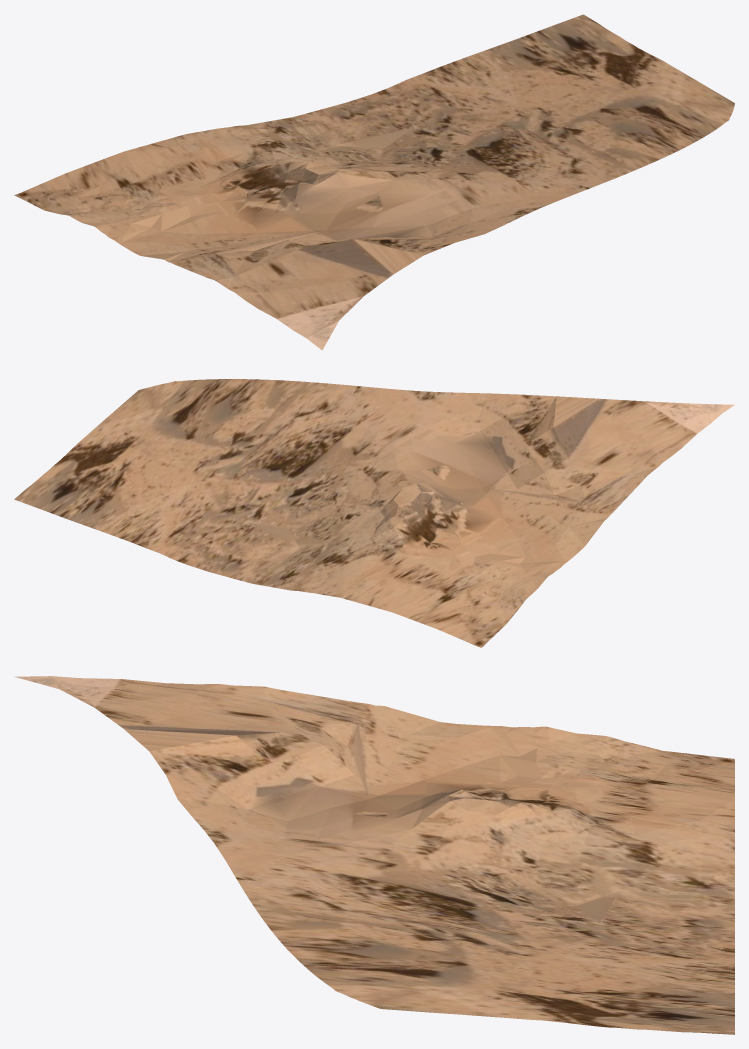
3 renders of one model, top to bottom at view 1: azimuth 30°, elevation 25°; view 2: azimuth 150°, elevation 25°; view 3: azimuth 270°, elevation 25°, orthographic. The views are drawn at different scales.
Size of the model in its own units: 8.36 by 1.18 by 7.84.
2 materials, 2 textured.
